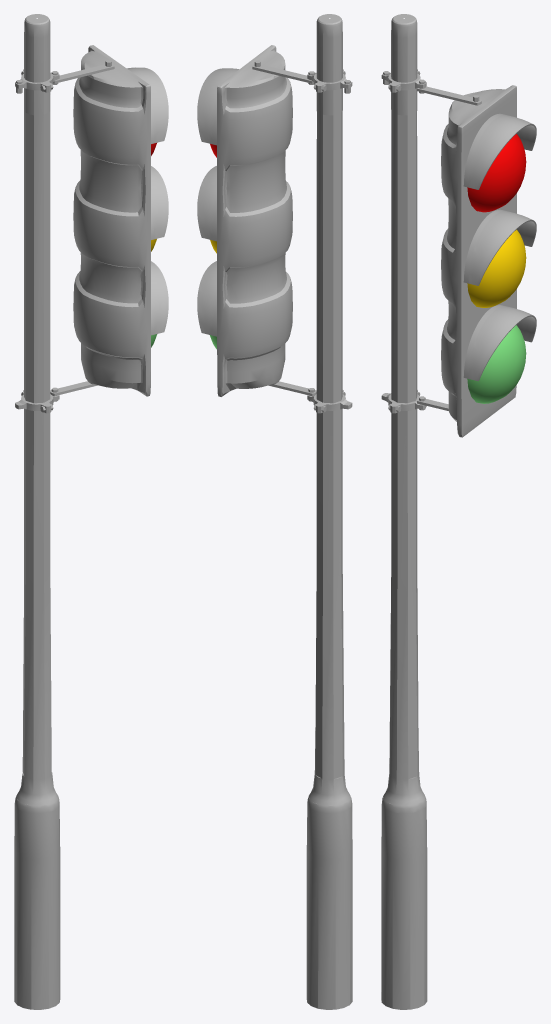
The model's file is traffic_light.gltf.
The picture shows the model from 3 angles, left to right: view 1: azimuth 30°, elevation 25°; view 2: azimuth 150°, elevation 25°; view 3: azimuth 330°, elevation 25°; orthographic projection.
Parts seen in each view (by area): view 1: nurbsToPol, polyToSub0, Obj_000003, Obj_000002, Obj_000008, pCube76, polySurfa2, polySurfac; view 2: nurbsToPol, polyToSub0, Obj_000003, Obj_000002, Obj_000008, pCube76, polySurfa2, polySurfac; view 3: nurbsToPol, polyToSub0, Obj_000002, Obj_000003, Obj_000008, pSphere8, pSphere6, pSphere7, pCube76, polySurfac, polySurfa2.
Part boxes in pixels (x1=…): nurbsToPol: x1=14, y1=14, x2=60, y2=1009; polyToSub0: x1=73, y1=45, x2=150, y2=396; Obj_000003: x1=127, y1=67, x2=168, y2=143; Obj_000002: x1=151, y1=261, x2=168, y2=335; Obj_000008: x1=151, y1=166, x2=168, y2=239; pCube76: x1=53, y1=64, x2=114, y2=83; polySurfa2: x1=15, y1=390, x2=59, y2=413; polySurfac: x1=15, y1=69, x2=59, y2=92; nurbsToPol: x1=306, y1=14, x2=352, y2=1009; polyToSub0: x1=217, y1=45, x2=292, y2=396; Obj_000003: x1=197, y1=68, x2=238, y2=145; Obj_000002: x1=197, y1=261, x2=216, y2=336; Obj_000008: x1=197, y1=166, x2=216, y2=241; pCube76: x1=252, y1=64, x2=313, y2=83; polySurfa2: x1=307, y1=390, x2=352, y2=413; polySurfac: x1=307, y1=69, x2=352, y2=92; nurbsToPol: x1=381, y1=14, x2=427, y2=1009; polyToSub0: x1=441, y1=85, x2=516, y2=437; Obj_000002: x1=463, y1=305, x2=536, y2=381; Obj_000003: x1=463, y1=113, x2=536, y2=189; Obj_000008: x1=463, y1=209, x2=536, y2=285; pSphere8: x1=467, y1=325, x2=526, y2=403; pSphere6: x1=467, y1=134, x2=526, y2=212; pSphere7: x1=467, y1=229, x2=526, y2=307; pCube76: x1=417, y1=86, x2=481, y2=105; polySurfac: x1=381, y1=69, x2=426, y2=92; polySurfa2: x1=381, y1=390, x2=426, y2=413.
Size of the model in its own units: 0.4438 by 3.01 by 0.3172.
